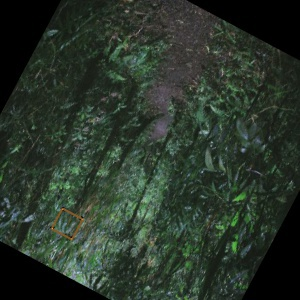square: (50, 206, 86, 242)
